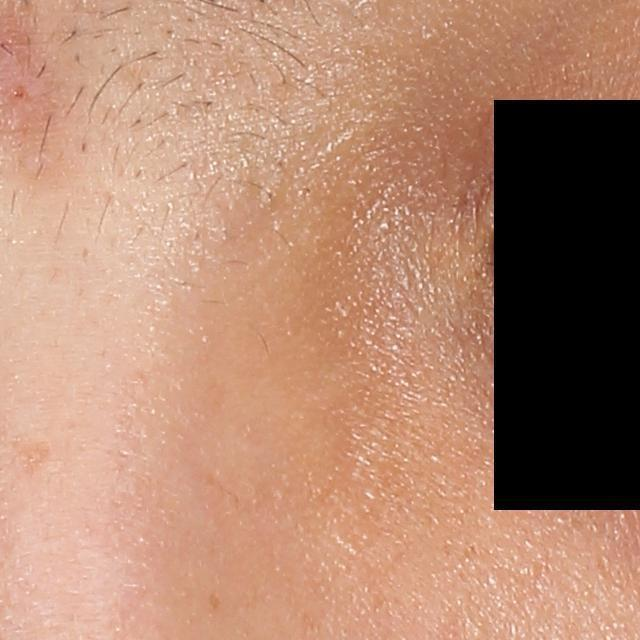melasma: (11, 436, 57, 484)
